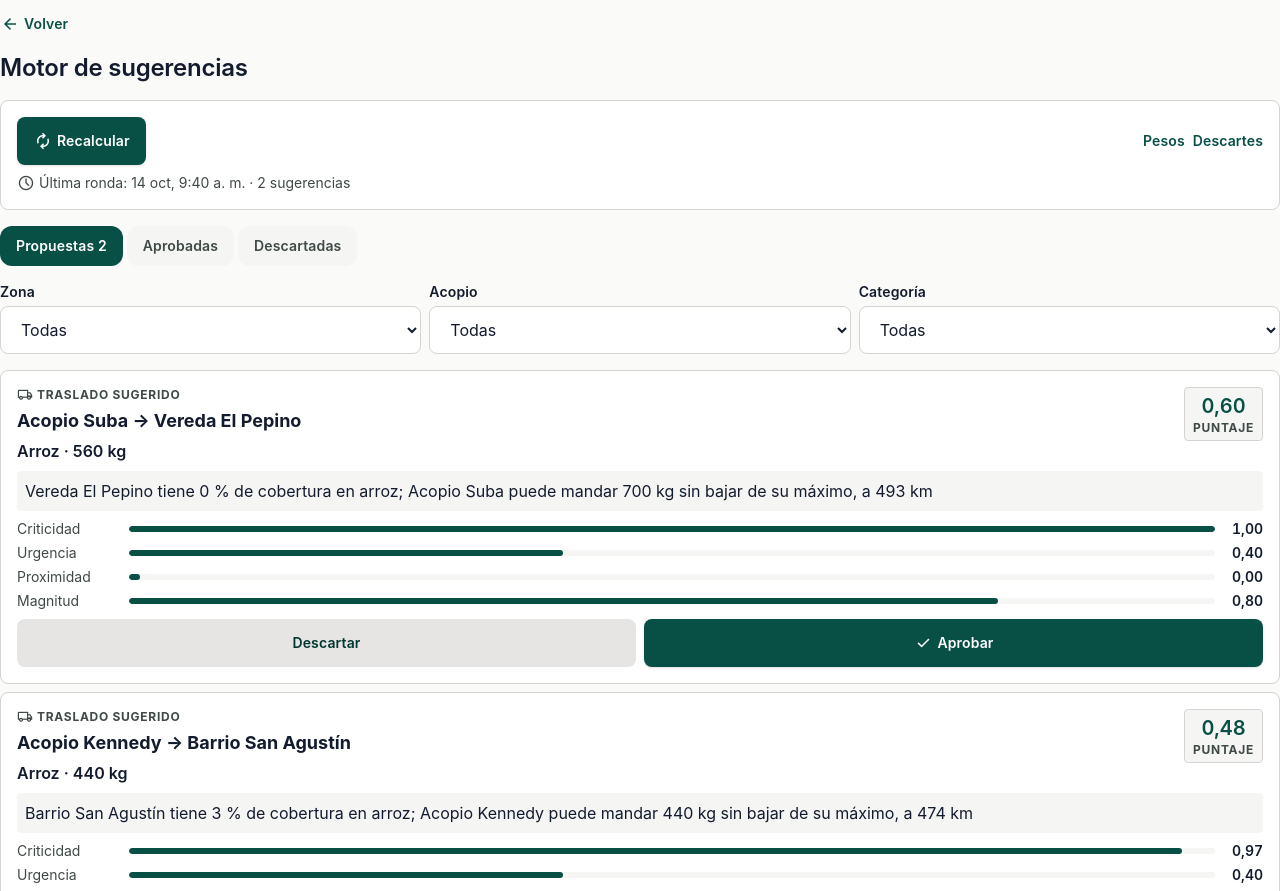
it: si la situación cambió, ofrece usar el máximo que da la API
Expected: the text "Vereda El Pepino tiene 0 %" is shown, [25, 481, 933, 501]
Click the button "Aprobar": (954, 643) [644, 619, 1263, 667]
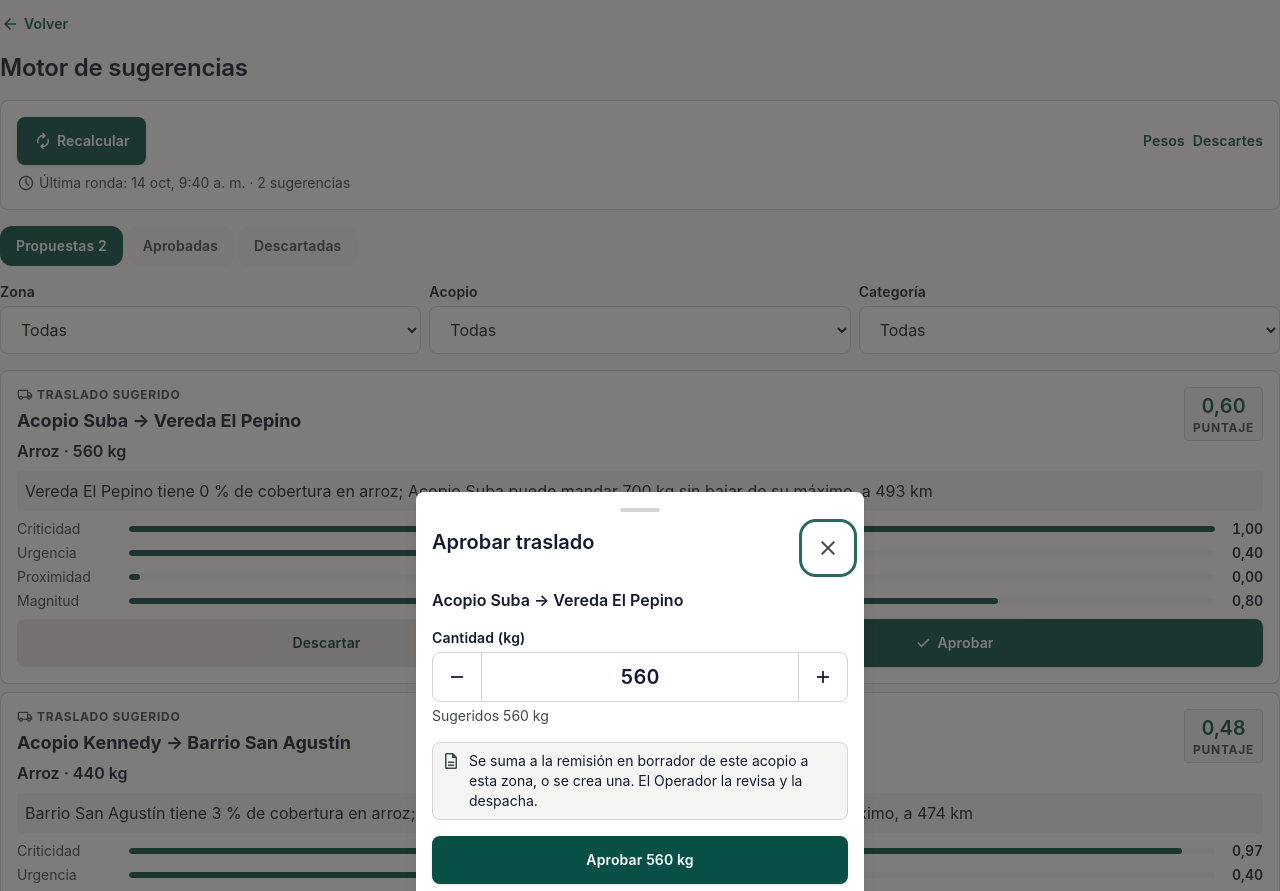
Click the button "Aprobar 560 kg": (640, 860) [432, 836, 848, 884]
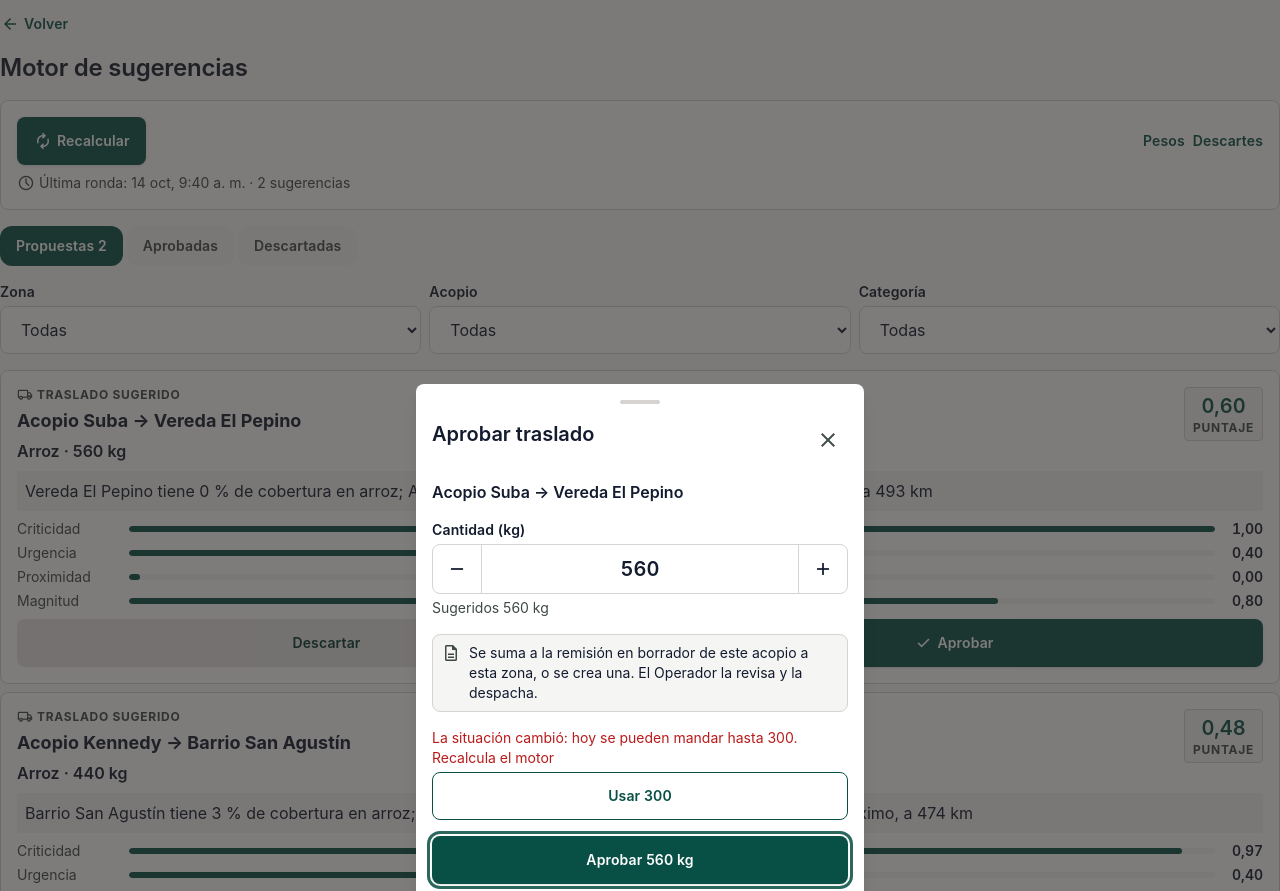
Click the button "Usar 300": (640, 796) [432, 772, 848, 820]
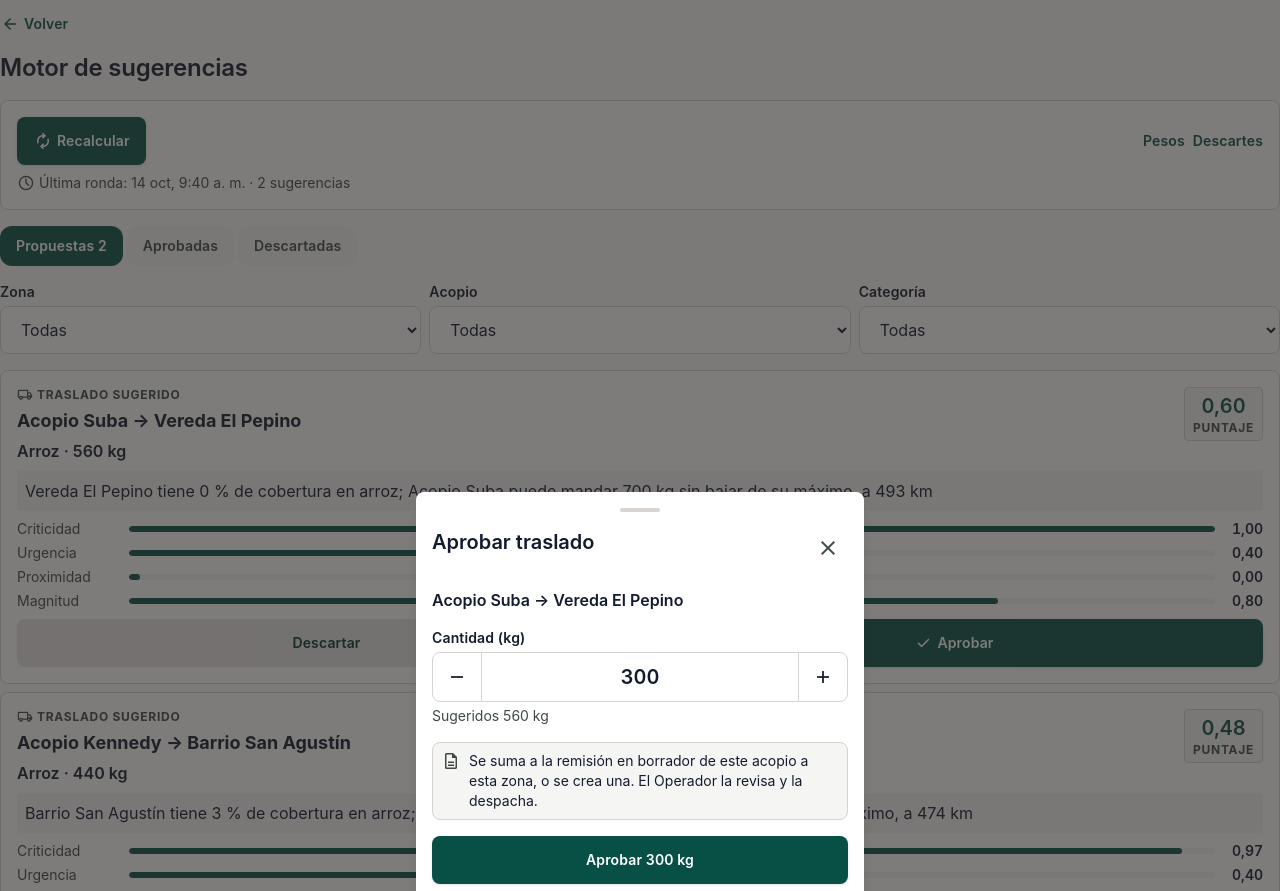
Result: the field labelled "Cantidad (kg)" holds "300" at [481, 653, 799, 701]
